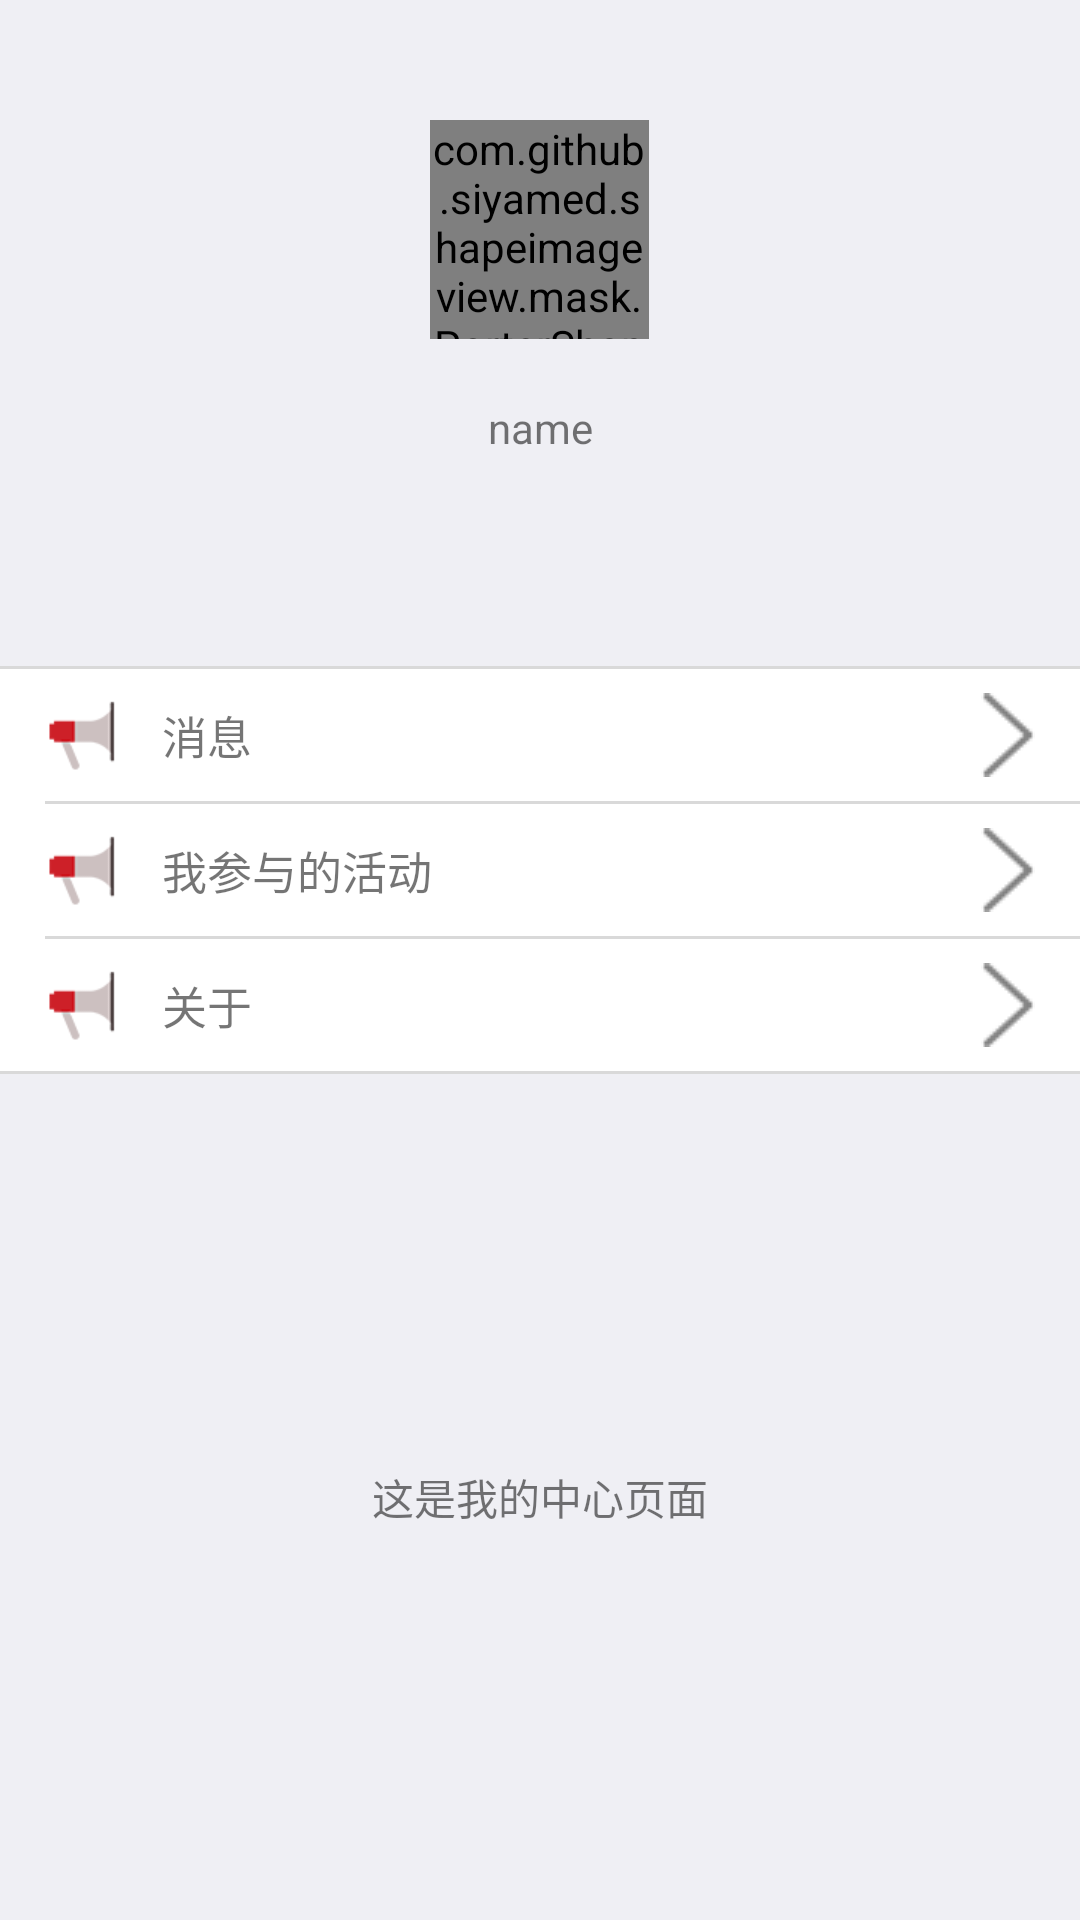

Icons on this 1080×1920 Android screen, each with the point to tap as [x,y]:
right arrow: [1008,735], [1008,870], [1008,1005]
